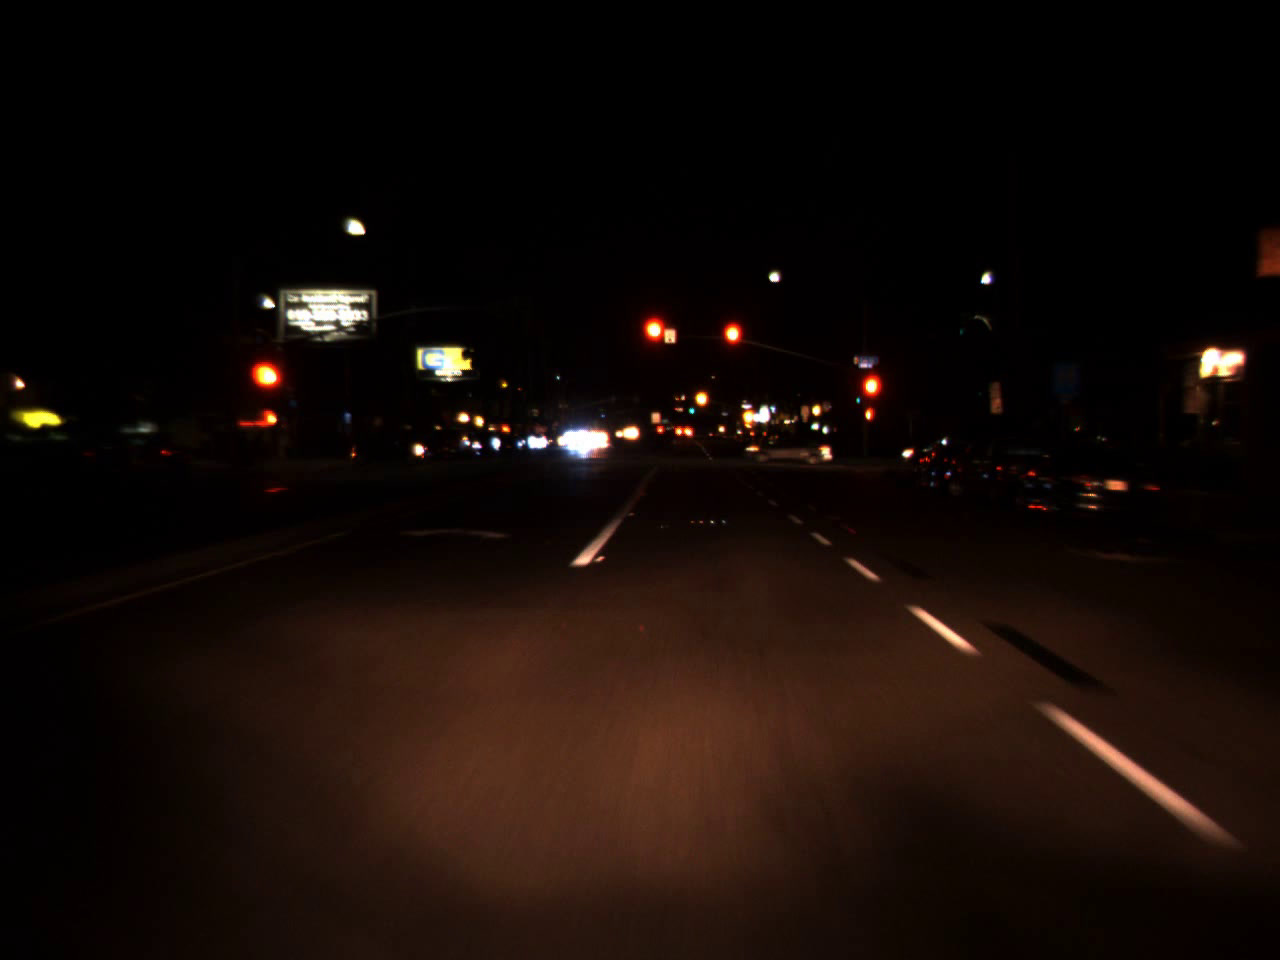go: (688, 399, 695, 417)
stop: (246, 356, 286, 423), (639, 312, 670, 374), (858, 371, 885, 425), (719, 319, 744, 373)
warning: (694, 383, 709, 413), (740, 401, 756, 428)
